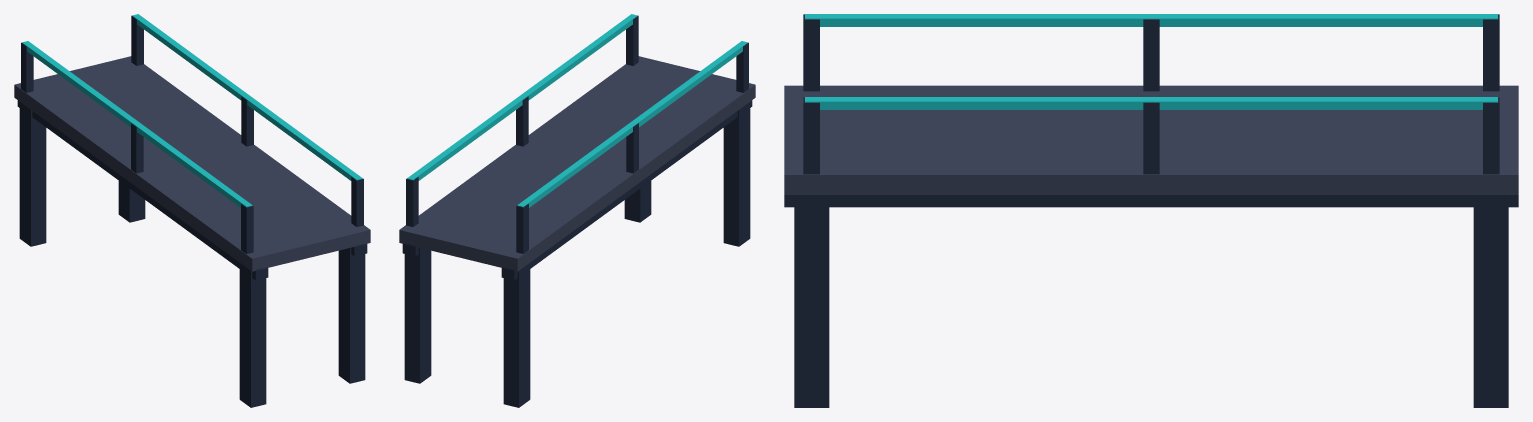
File: Neon_Skybridge_Simple.glb
3 renders of one model, left to right at view 1: azimuth 30°, elevation 25°; view 2: azimuth 150°, elevation 25°; view 3: azimuth 270°, elevation 25°, orthographic. The views are drawn at different scales.
Visible parts, largest first — view 1: Neon_Skybridge_Simple; view 2: Neon_Skybridge_Simple; view 3: Neon_Skybridge_Simple.
Boxes of the visible parts, x1,y1,x2,y2 form: Neon_Skybridge_Simple: (14, 14, 370, 407); Neon_Skybridge_Simple: (399, 14, 755, 407); Neon_Skybridge_Simple: (784, 14, 1518, 407).
Bounding box in the file's own units: 2.3 × 3.69 × 8.
